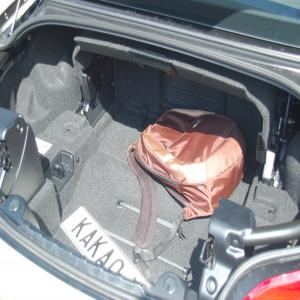Vehicle-registration-plate: (60, 206, 153, 290)
